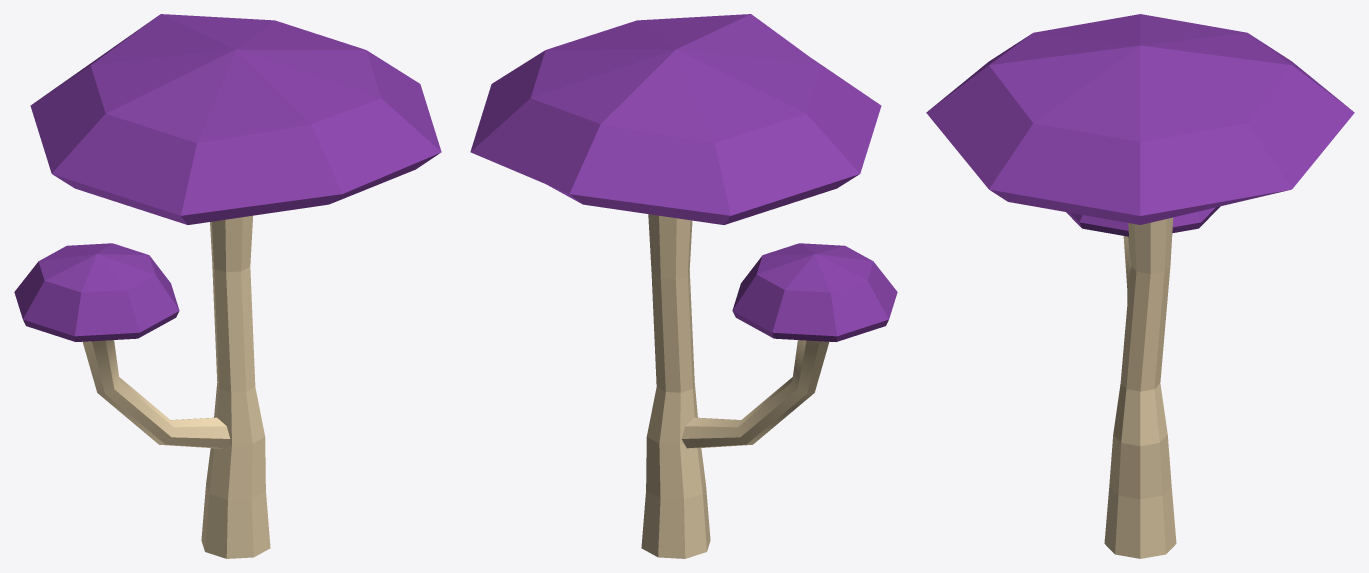
Rendered from Champignon_A.FBX.
3 views of the same model, side by side, from view 1: azimuth 30°, elevation 25°; view 2: azimuth 150°, elevation 25°; view 3: azimuth 270°, elevation 25° (orthographic).
Visible parts, largest first — view 1: Champignon_A; view 2: Champignon_A; view 3: Champignon_A.
Boxes of the visible parts, bbox=[...] form: Champignon_A: bbox=[14, 14, 441, 558]; Champignon_A: bbox=[470, 14, 897, 558]; Champignon_A: bbox=[926, 14, 1354, 558].
Bounding box in the file's own units: 12.18 × 14.48 × 11.29.
Materials: 1 (1 with a texture image).
